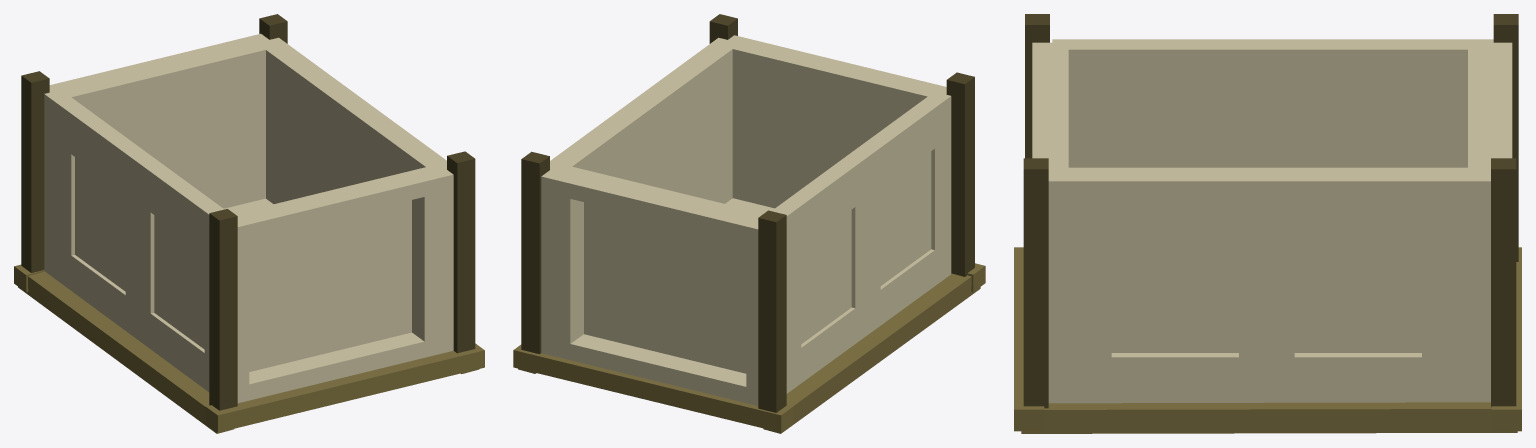
File: cutebin.fbx
3 views of the same model, side by side, from view 1: azimuth 30°, elevation 25°; view 2: azimuth 150°, elevation 25°; view 3: azimuth 270°, elevation 25° (orthographic). The views are drawn at different scales.
Parts seen in each view (by area): view 1: Cube, Cube.010, Cube.002, Cube.003, Cube.004, Cube.006, Cube.005; view 2: Cube, Cube.002, Cube.009, Cube.004, Cube.003, Cube.005, Cube.006; view 3: Cube, Cube.007, Cube.006, Cube.005, Cube.010, Cube.004, Cube.009, Cube.003.
Boxes of the visible parts, x1=… form: Cube: x1=44, y1=33, x2=453, y2=403; Cube.010: x1=205, y1=343, x2=484, y2=432; Cube.002: x1=18, y1=271, x2=233, y2=433; Cube.003: x1=209, y1=209, x2=237, y2=410; Cube.004: x1=21, y1=71, x2=49, y2=272; Cube.006: x1=447, y1=151, x2=475, y2=353; Cube.005: x1=259, y1=14, x2=287, y2=43; Cube: x1=541, y1=35, x2=951, y2=405; Cube.002: x1=763, y1=273, x2=980, y2=433; Cube.009: x1=513, y1=344, x2=793, y2=432; Cube.004: x1=758, y1=210, x2=786, y2=412; Cube.003: x1=946, y1=72, x2=974, y2=276; Cube.005: x1=521, y1=151, x2=549, y2=354; Cube.006: x1=709, y1=14, x2=737, y2=43; Cube: x1=1032, y1=39, x2=1512, y2=403; Cube.007: x1=1021, y1=402, x2=1517, y2=433; Cube.006: x1=1023, y1=158, x2=1048, y2=408; Cube.005: x1=1491, y1=158, x2=1516, y2=407; Cube.010: x1=1014, y1=247, x2=1044, y2=431; Cube.004: x1=1493, y1=14, x2=1518, y2=261; Cube.009: x1=1491, y1=247, x2=1521, y2=431; Cube.003: x1=1025, y1=14, x2=1049, y2=158.
Size of the model in its own units: 275 by 208 by 363.
